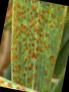Wheat: (13, 11, 46, 81)
